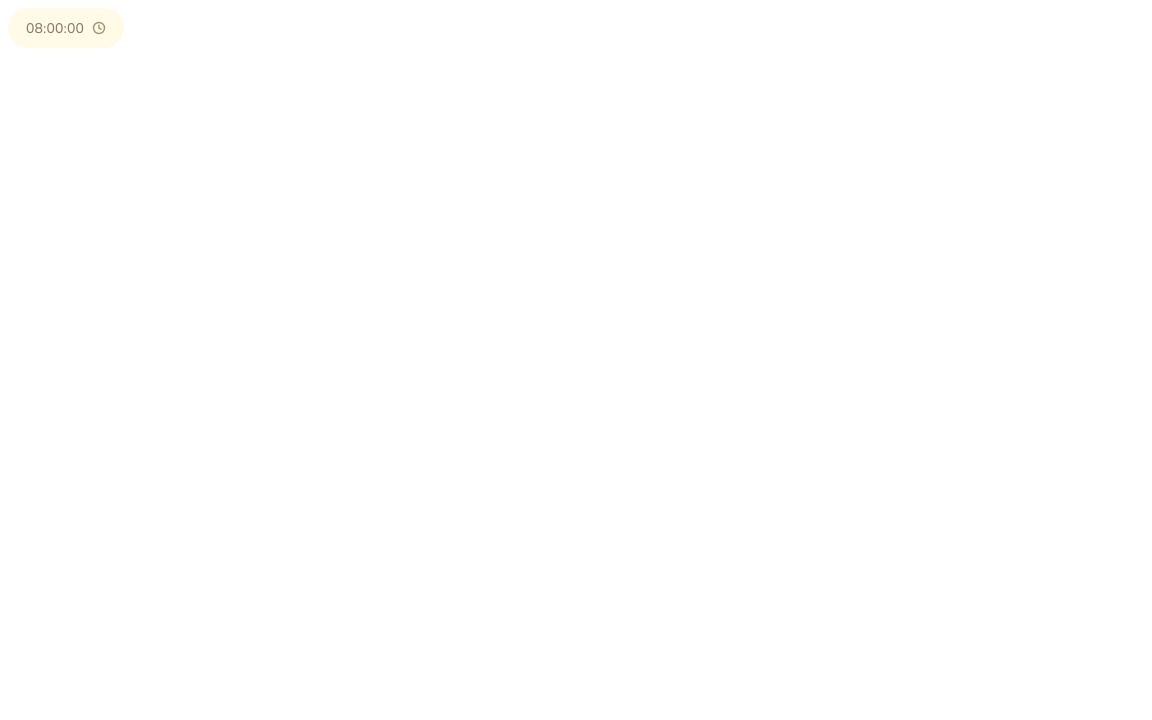
Test: TimePicker › 展开与选择 › 此刻按钮设置当前时间
What coordinates should you click on to do the following:
click the dropdown
I would click on:
 (66, 28)
Its box is left=8, top=8, right=124, bottom=48.
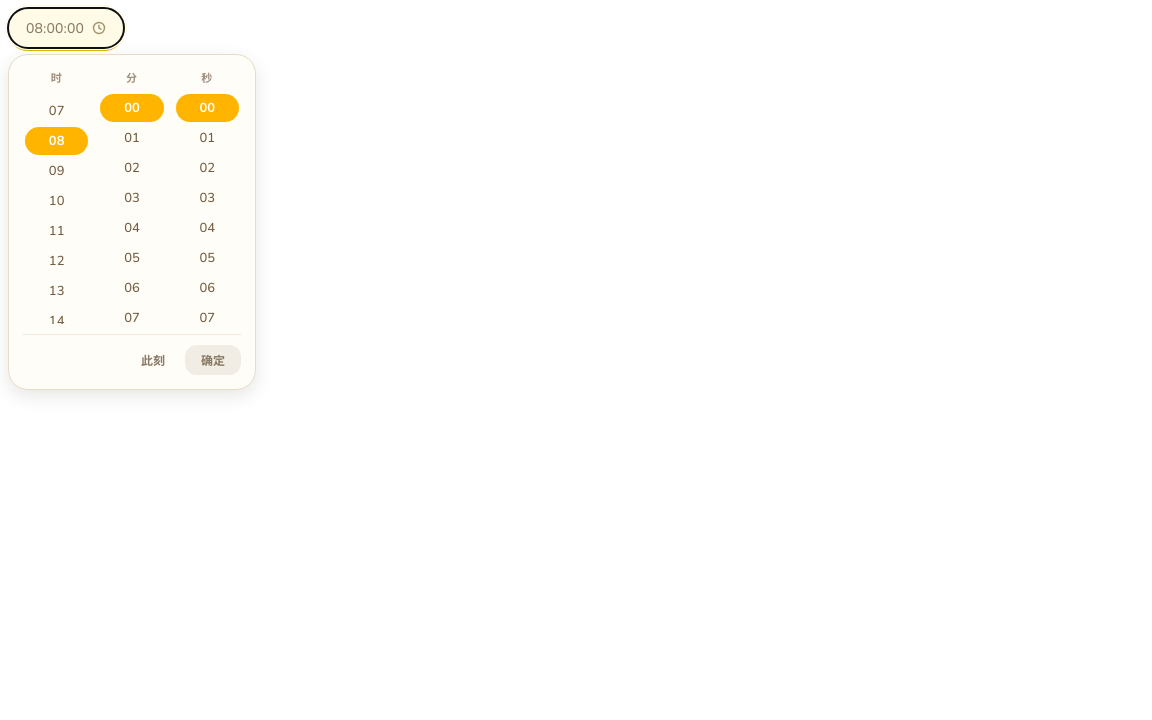
What coordinates should you click on to do the following:
click the button "此刻"
I would click on:
 (153, 360)
Its box is left=127, top=345, right=179, bottom=375.
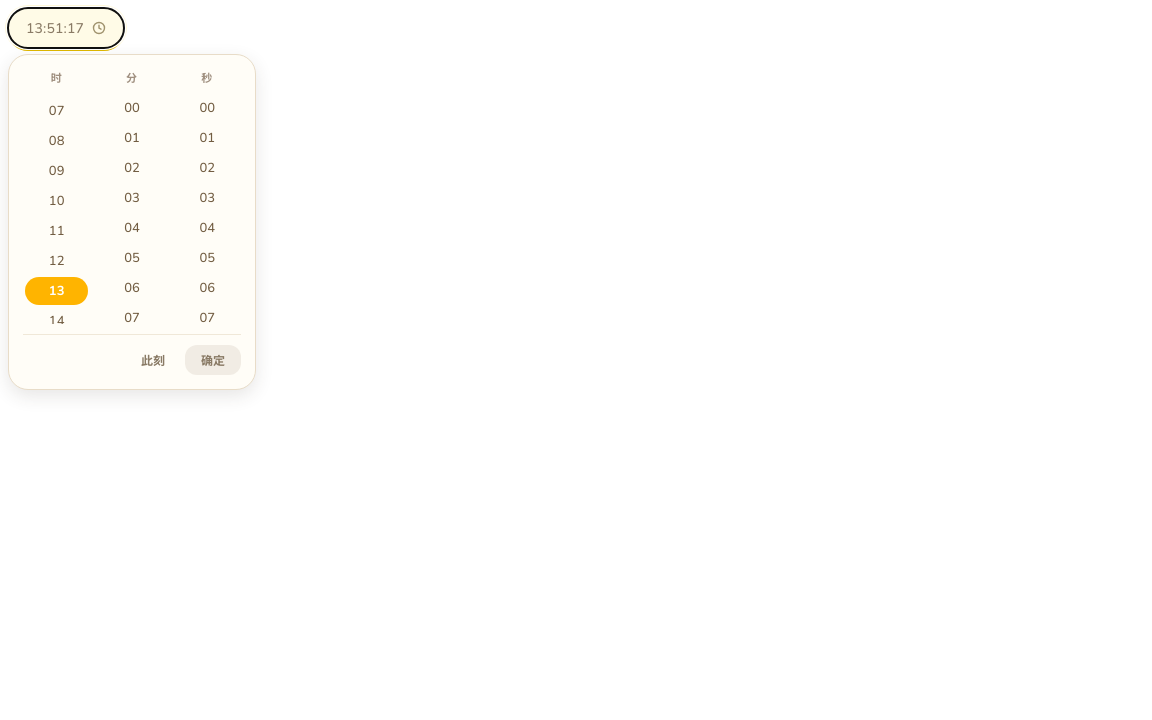
Expected: the text "13:51:17" is shown, left=26, top=18, right=84, bottom=38
